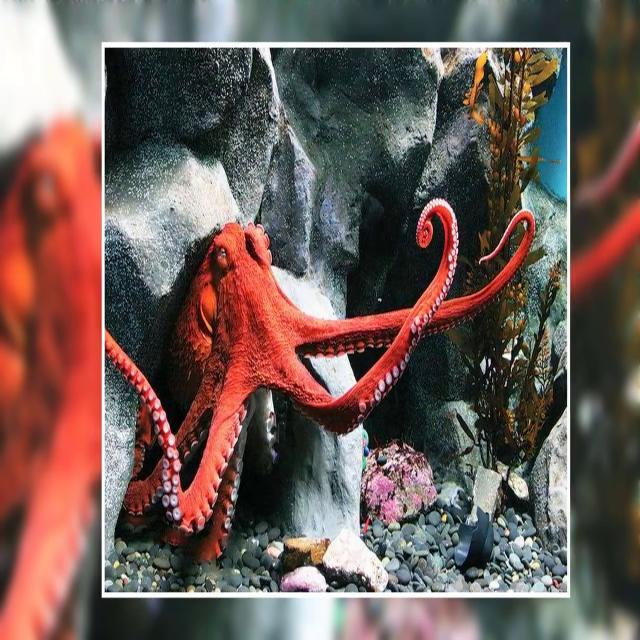octopus: (105, 203, 538, 568)
